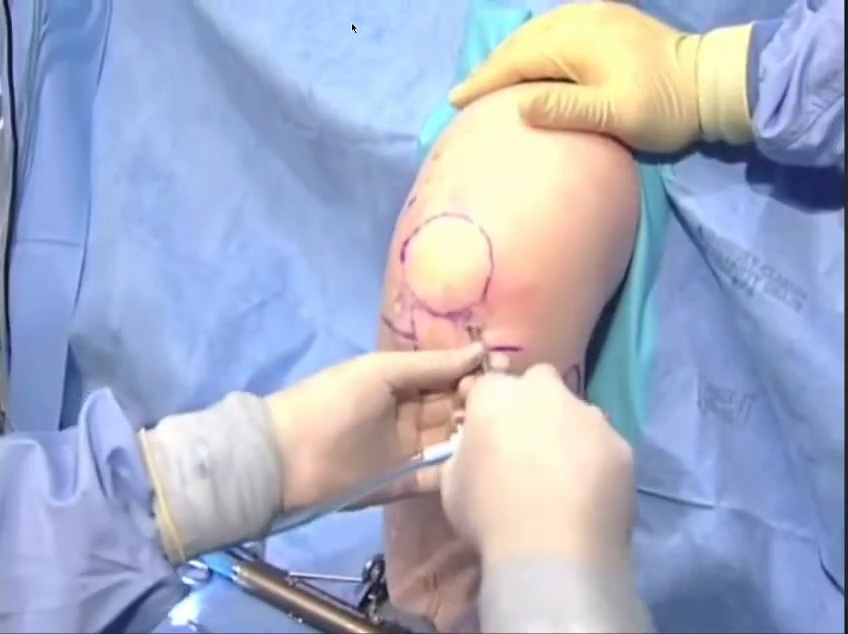arthroscope: (61, 255, 402, 508), (646, 143, 808, 346)
probe: (168, 127, 266, 254), (117, 322, 202, 399)
